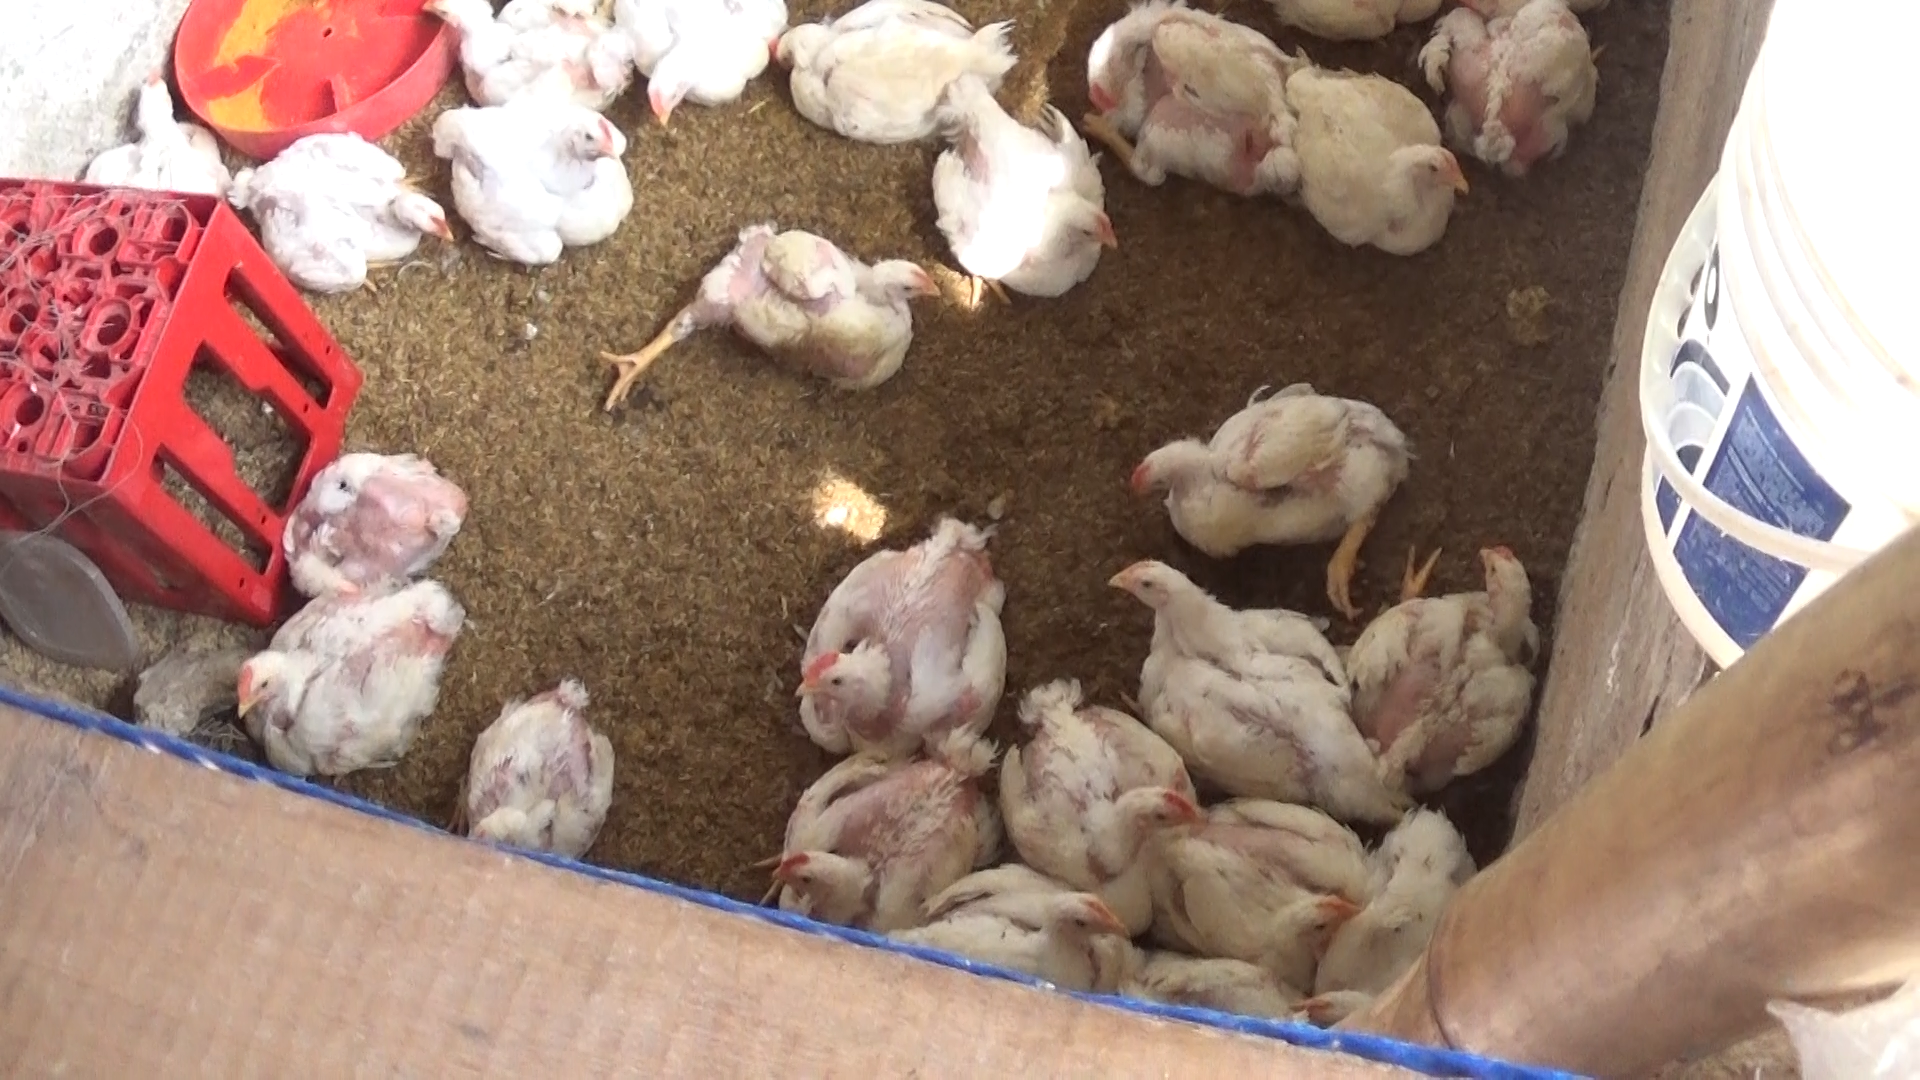Pollos: (593, 203, 942, 406), (1110, 377, 1422, 603), (1105, 549, 1367, 803), (1332, 516, 1557, 796), (779, 508, 1025, 764), (906, 74, 1133, 332), (978, 674, 1221, 882), (225, 576, 462, 787), (1091, 0, 1354, 189), (752, 727, 997, 918), (1133, 787, 1352, 984), (1282, 67, 1487, 268), (872, 857, 1139, 1006), (446, 646, 634, 857), (1323, 766, 1495, 993), (766, 0, 1017, 152), (233, 127, 454, 295), (270, 434, 480, 608), (1422, 1, 1617, 178), (431, 108, 641, 258), (415, 0, 644, 112), (621, 0, 791, 131), (69, 61, 231, 196)
